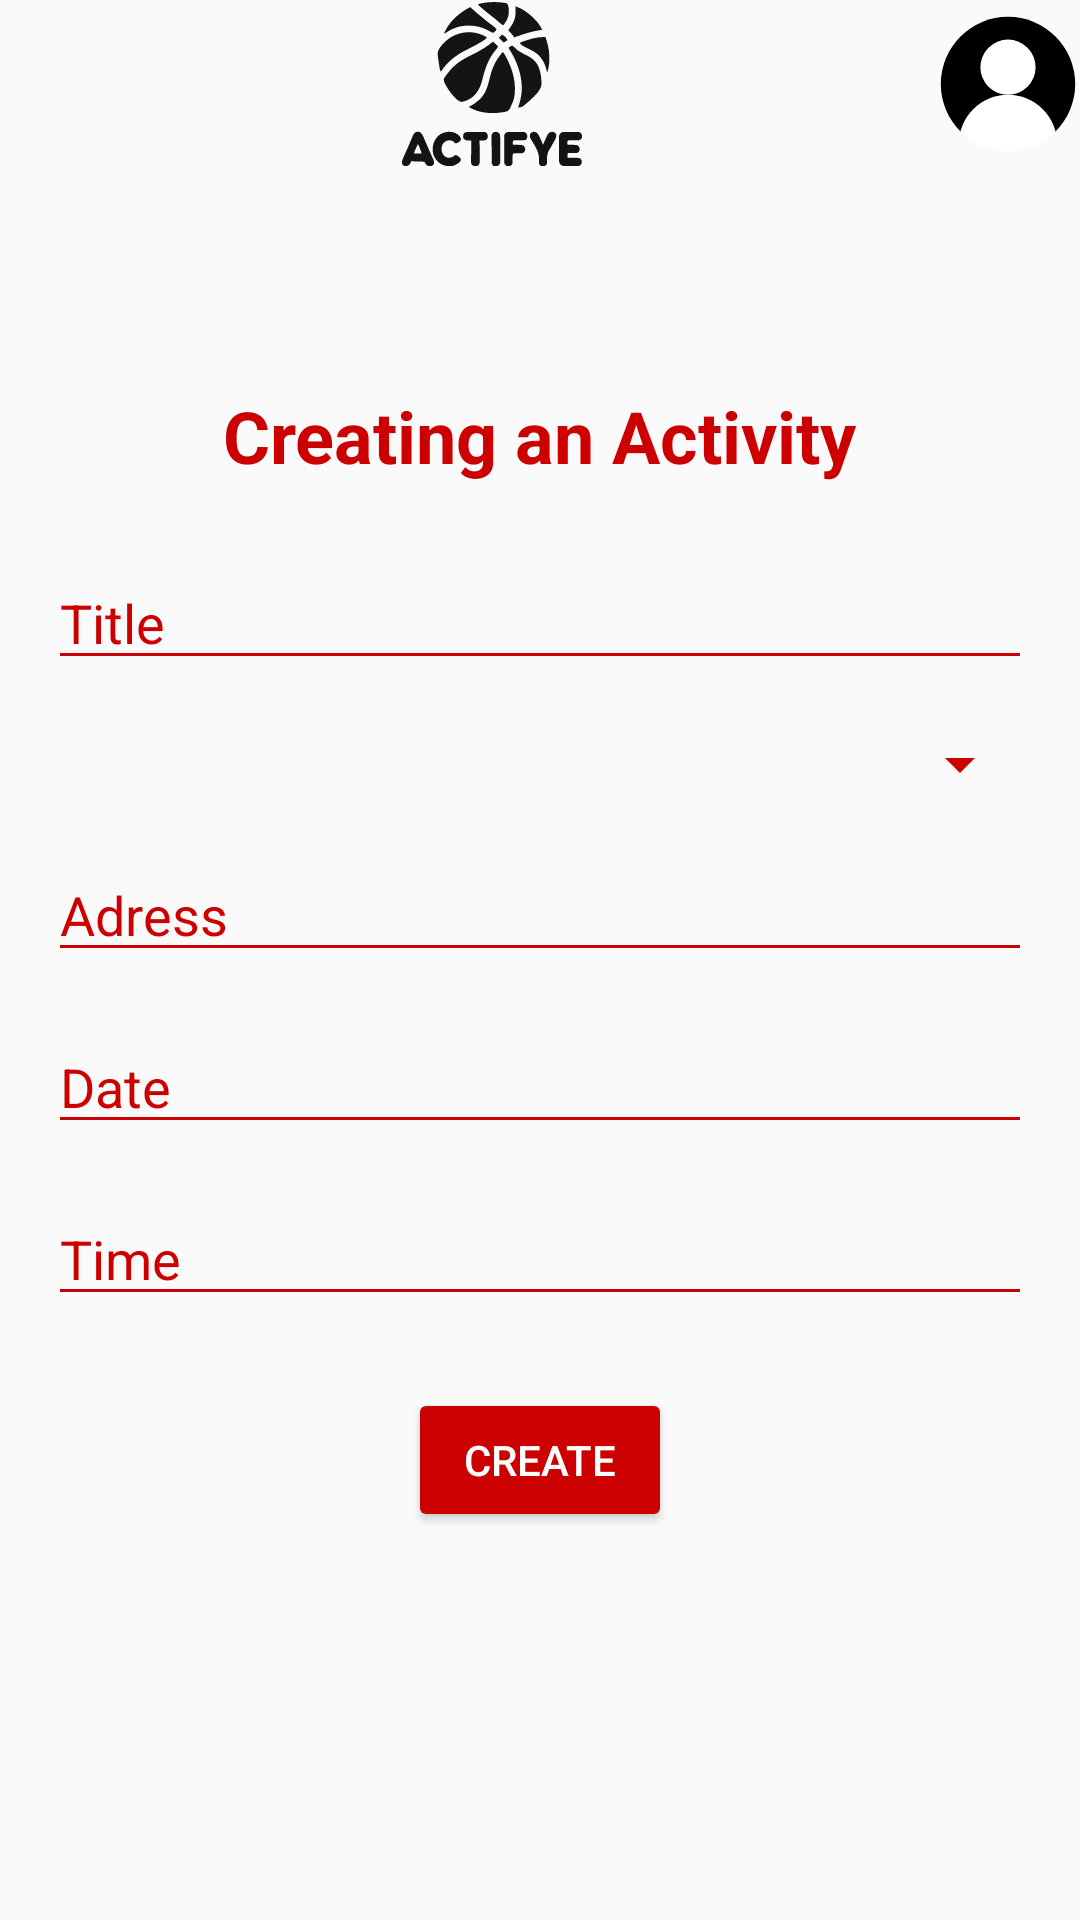

Where icons sit on this 1080*1920 app screen, as box(x1, y1, x2, y2):
profile: box(940, 16, 1076, 132)
